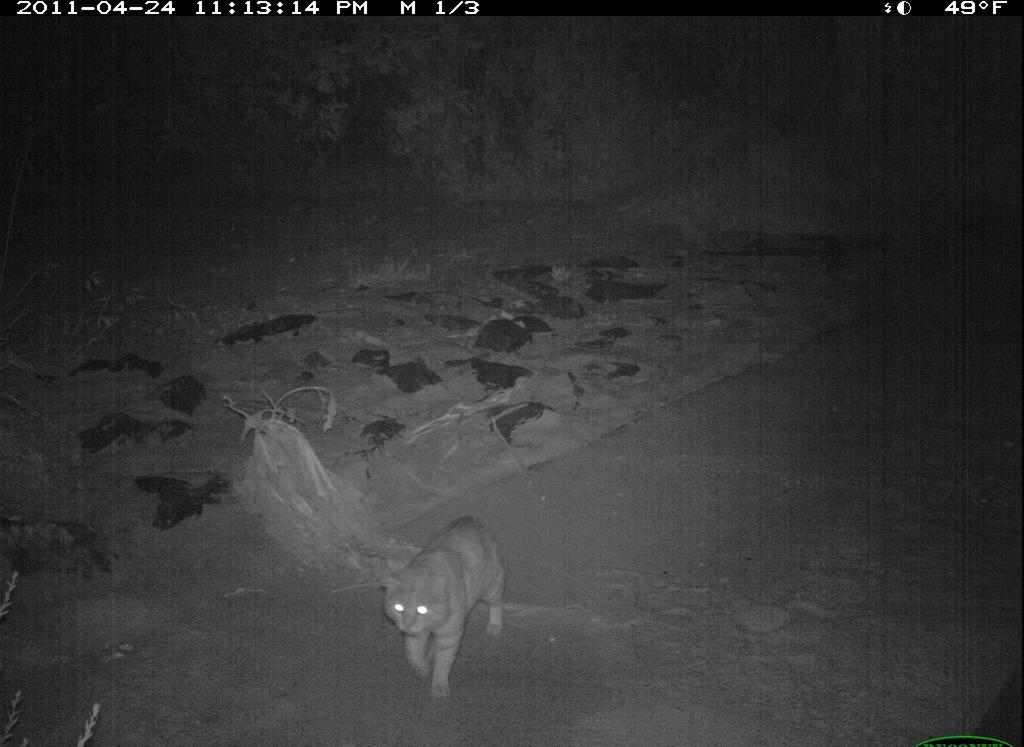cat: (363, 501, 530, 712)
